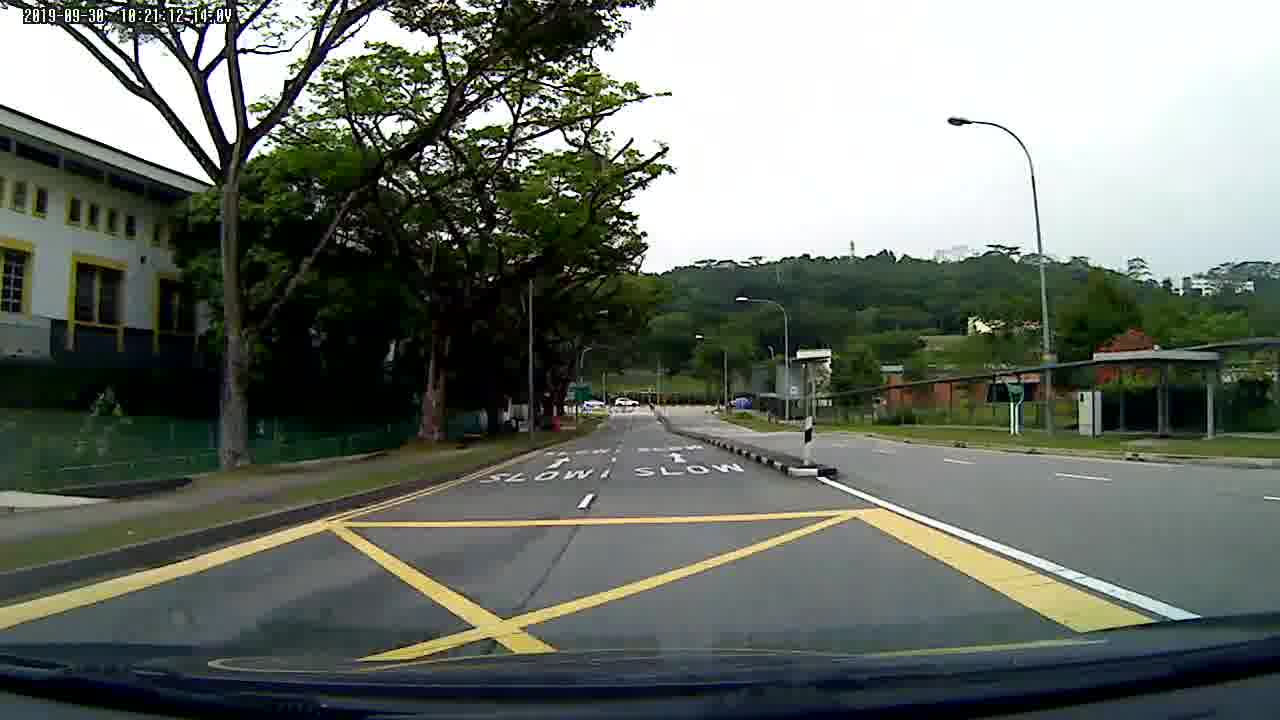car: (614, 395, 639, 411)
